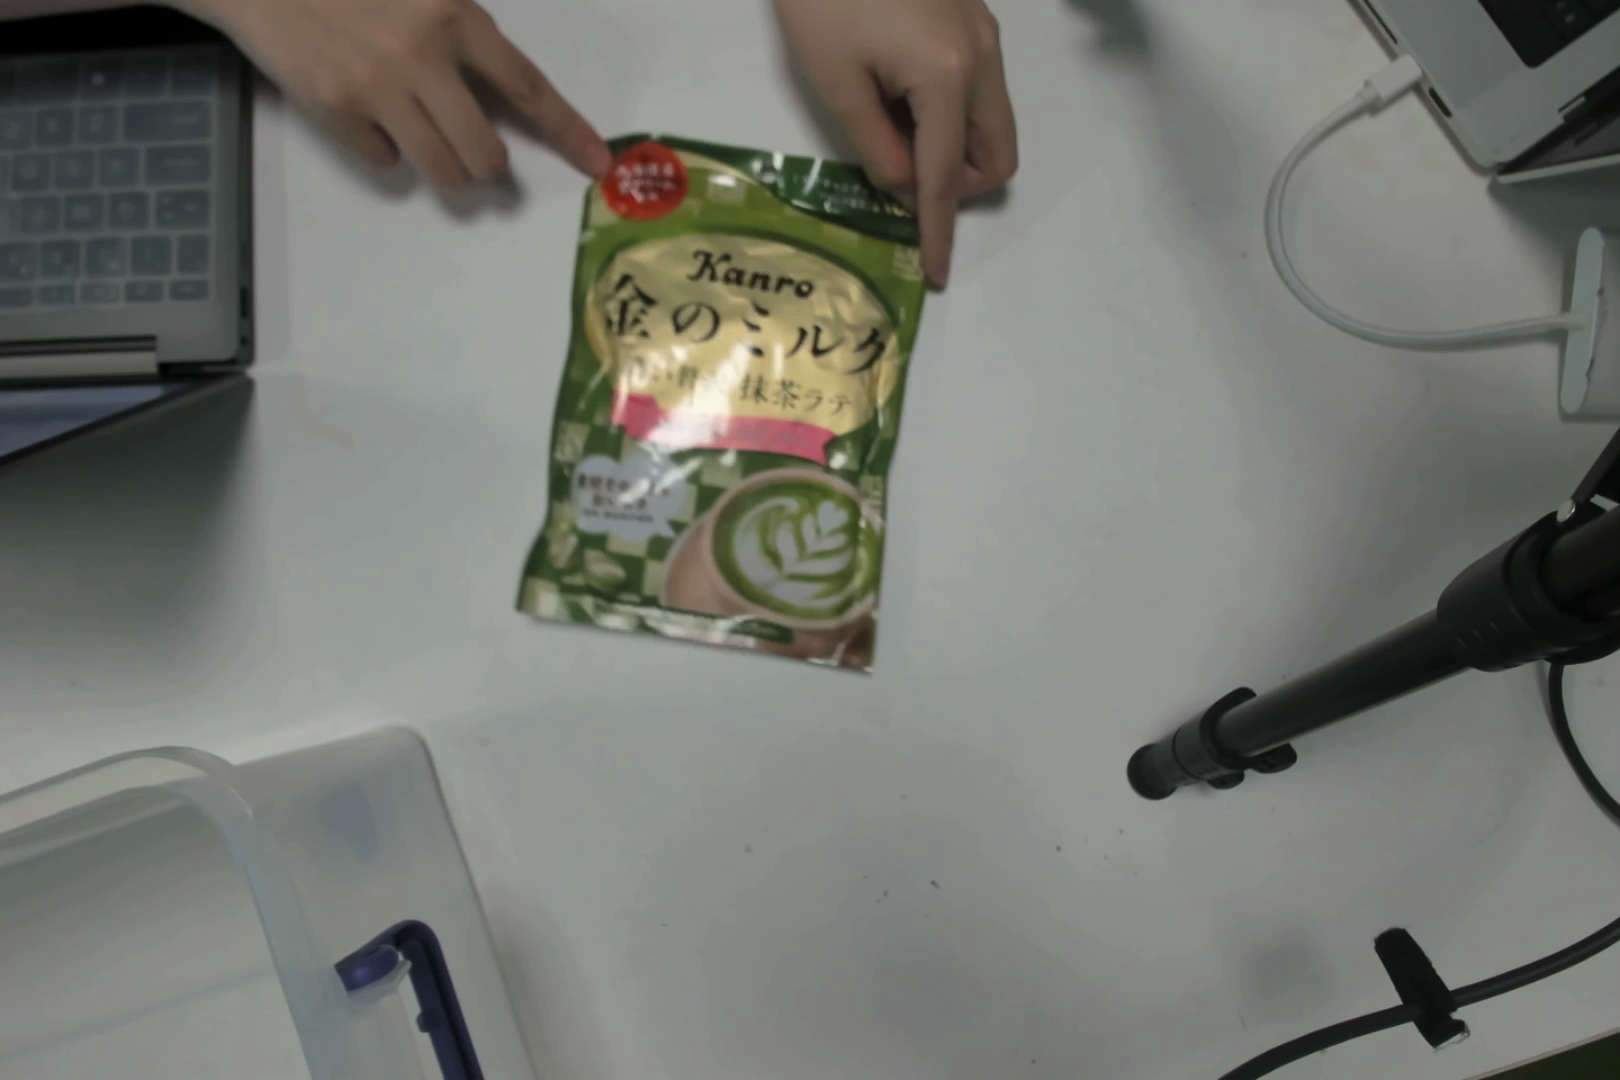SweetsChocolatesOthers_1-99g_NonHalal_NonHealthy: (588, 151, 893, 638)
